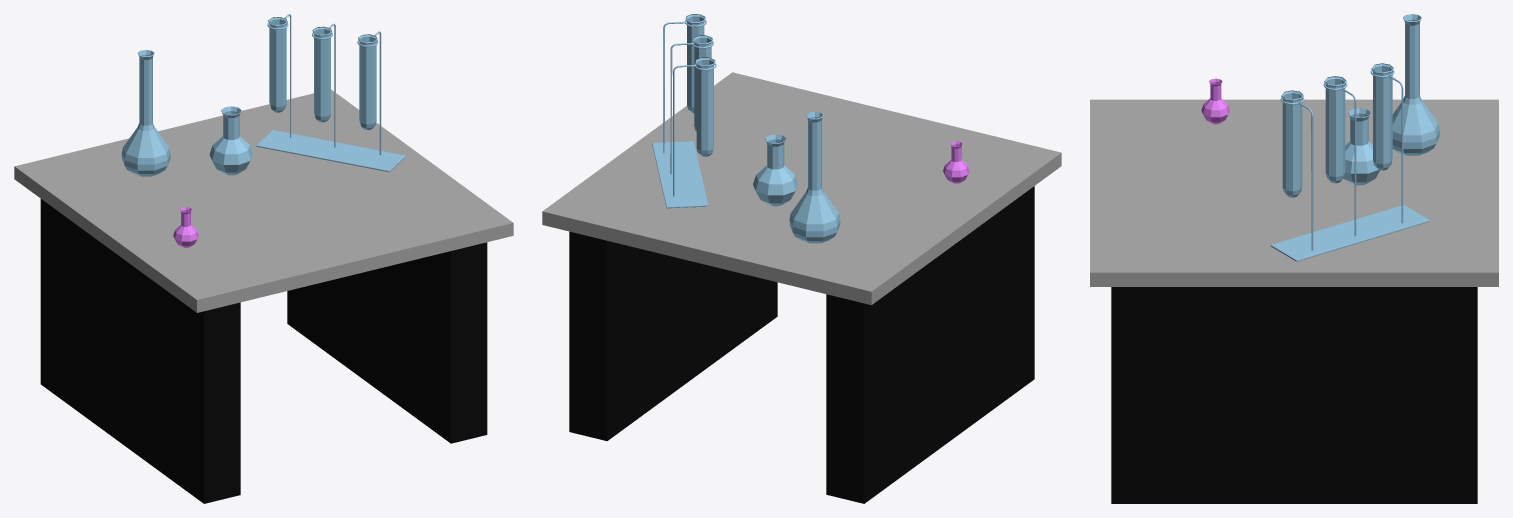
File: Laboratory table.FBX
The picture shows the model from 3 angles, left to right: view 1: azimuth 30°, elevation 25°; view 2: azimuth 150°, elevation 25°; view 3: azimuth 270°, elevation 25°; orthographic projection. The views are drawn at different scales.
Parts seen in each view (by area): view 1: Box001; view 2: Box001; view 3: Box001.
Boxes of the visible parts, box(x1,y1,x2,y2) form: Box001: box(14, 14, 513, 503); Box001: box(542, 14, 1061, 503); Box001: box(1090, 14, 1498, 503).
Bounding box in the file's own units: 1.34 × 1.4 × 1.34.
